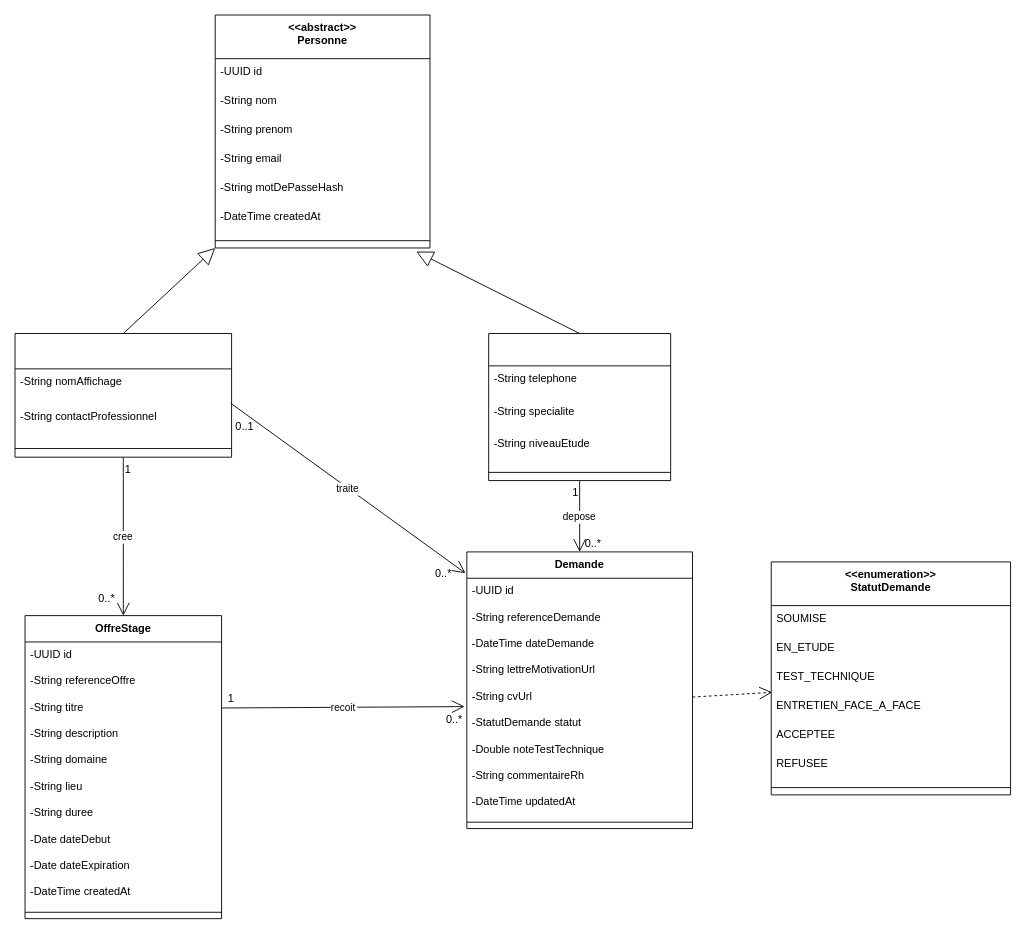
Some shapes in this 1026 by 934 pixel diagram are drawn without their labels. Each missing label, with the box of its shape:
Candidat: (488, 333, 671, 481)
RH: (14, 333, 232, 457)
